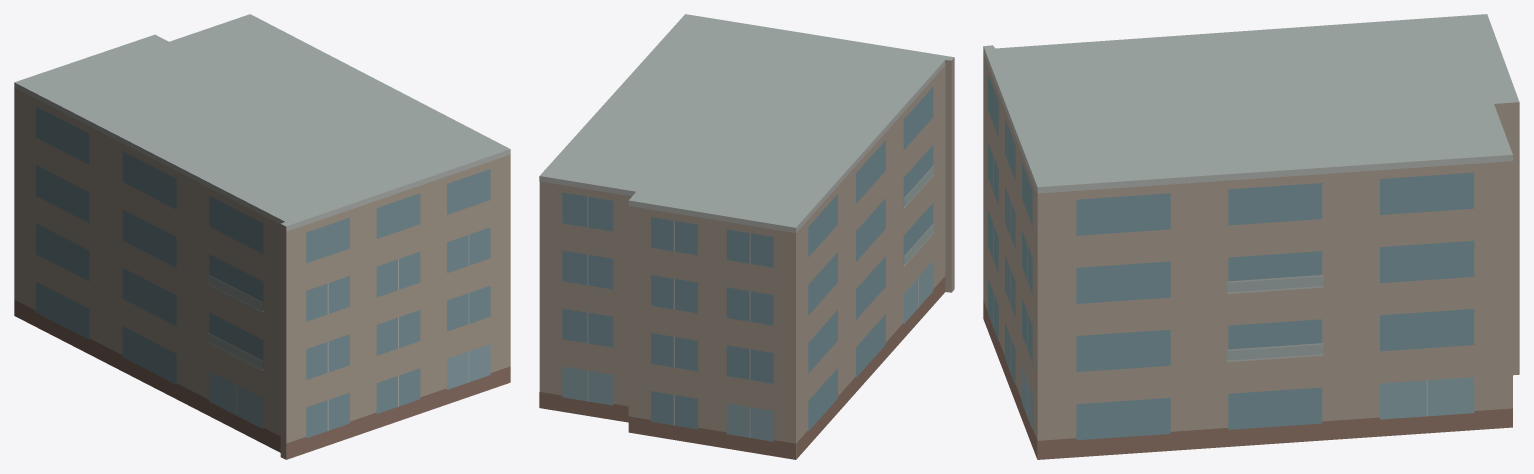
Rendered from survey-upis-32707595.glb.
3 renders of one model, left to right at view 1: azimuth 30°, elevation 25°; view 2: azimuth 150°, elevation 25°; view 3: azimuth 270°, elevation 25°, orthographic. The views are drawn at different scales.
Parts seen in each view (by area): view 1: survey-upis-32707595.tmp; view 2: survey-upis-32707595.tmp; view 3: survey-upis-32707595.tmp.
Boxes of the visible parts, x1=… form: survey-upis-32707595.tmp: x1=14, y1=14, x2=510, y2=459; survey-upis-32707595.tmp: x1=539, y1=14, x2=954, y2=459; survey-upis-32707595.tmp: x1=983, y1=14, x2=1519, y2=459.
Bounding box in the file's own units: 14.39 × 10.55 × 18.81.
